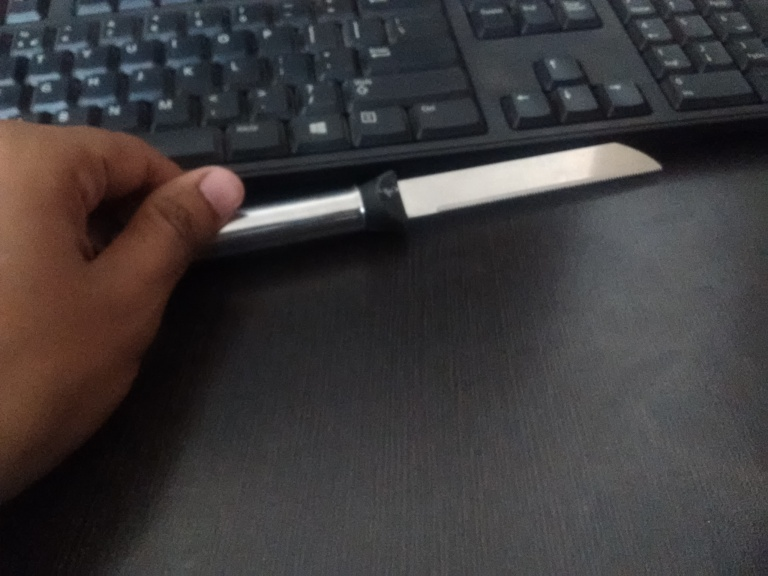knife: (253, 143, 661, 250)
